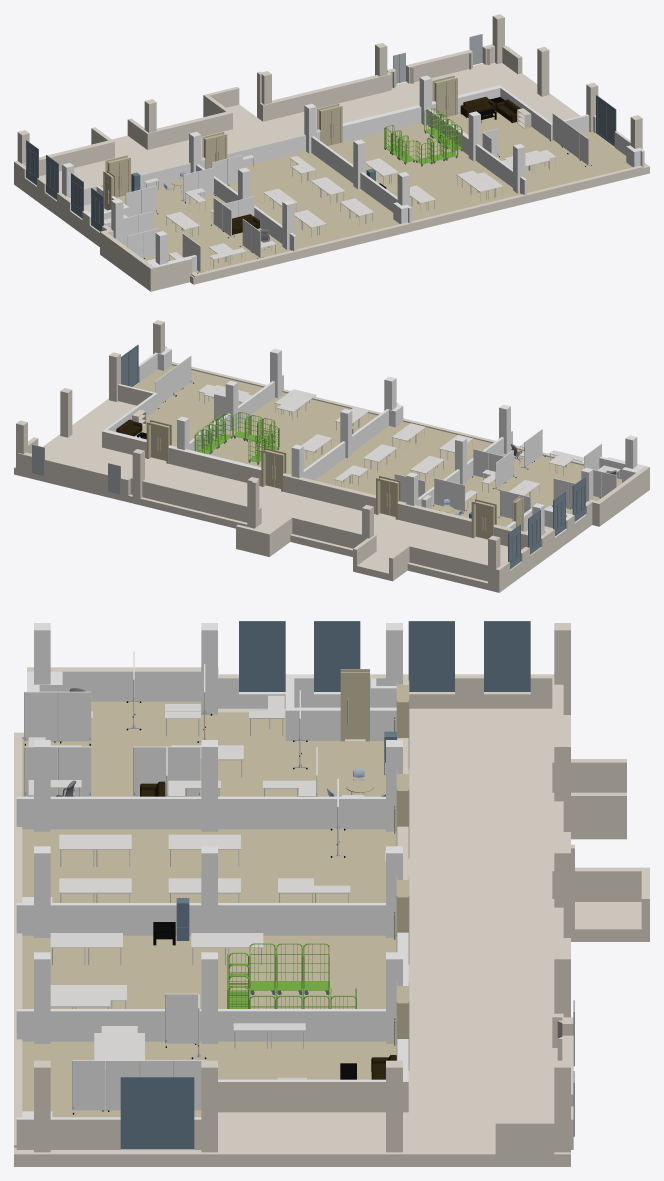
File: office_20230504_1536.glb
3 renders of one model, top to bottom at view 1: azimuth 30°, elevation 25°; view 2: azimuth 150°, elevation 25°; view 3: azimuth 270°, elevation 25°, orthographic. The views are drawn at different scales.
Visible parts, largest first — view 1: Rectangle010, Rectangle134, Rectangle510, Rectangle033, Rectangle135, Rectangle003, Line007, Rectangle201, Rectangle001, Line001, Rectangle002, Rectangle014 (+26 smaller); view 2: Rectangle010, Rectangle510, Rectangle003, Rectangle033, Rectangle134, Line007, Rectangle135, Rectangle201, Rectangle001, Line001, Rectangle002, Line411 (+30 smaller); view 3: Rectangle010, Rectangle134, Rectangle033, Line007, Rectangle014, Rectangle135, Rectangle001, Line001, Rectangle002, Rectangle201, Rectangle195, Rectangle510 (+54 smaller).
Boxes of the visible parts, x1,y1,x2,y2 form: Rectangle010: [14, 62, 649, 291]; Rectangle134: [227, 151, 399, 249]; Rectangle510: [23, 44, 494, 176]; Rectangle033: [328, 123, 521, 220]; Rectangle135: [443, 112, 632, 192]; Rectangle003: [84, 85, 502, 205]; Line007: [116, 184, 290, 273]; Rectangle201: [57, 192, 155, 284]; Rectangle001: [311, 136, 411, 223]; Line001: [500, 87, 644, 167]; Rectangle002: [426, 108, 527, 194]; Rectangle014: [196, 164, 296, 251]; Rectangle010: [14, 382, 649, 592]; Rectangle510: [18, 452, 487, 581]; Rectangle003: [102, 429, 527, 549]; Rectangle033: [208, 392, 377, 474]; Rectangle134: [315, 421, 492, 495]; Line007: [432, 448, 621, 526]; Rectangle135: [133, 365, 262, 446]; Rectangle201: [541, 466, 649, 554]; Rectangle001: [303, 403, 398, 480]; Line001: [105, 346, 166, 431]; Rectangle002: [189, 374, 283, 451]; Line411: [236, 517, 292, 550]; Rectangle010: [14, 708, 570, 1166]; Rectangle134: [22, 829, 396, 902]; Rectangle033: [22, 935, 396, 1008]; Line007: [22, 701, 385, 796]; Rectangle014: [16, 796, 385, 829]; Rectangle135: [22, 1041, 396, 1117]; Rectangle001: [16, 903, 385, 935]; Line001: [16, 1079, 385, 1149]; Rectangle002: [16, 1009, 385, 1041]; Rectangle201: [27, 667, 408, 708]; Rectangle195: [120, 1077, 194, 1149]; Rectangle510: [552, 678, 573, 1149].
Bounding box in the file's own units: 3.85 × 0.384 × 2.27.
